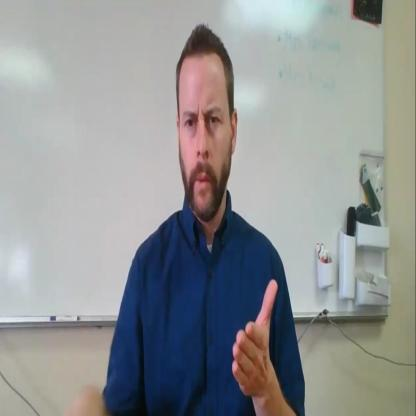Expensive: (75, 219, 280, 416)
